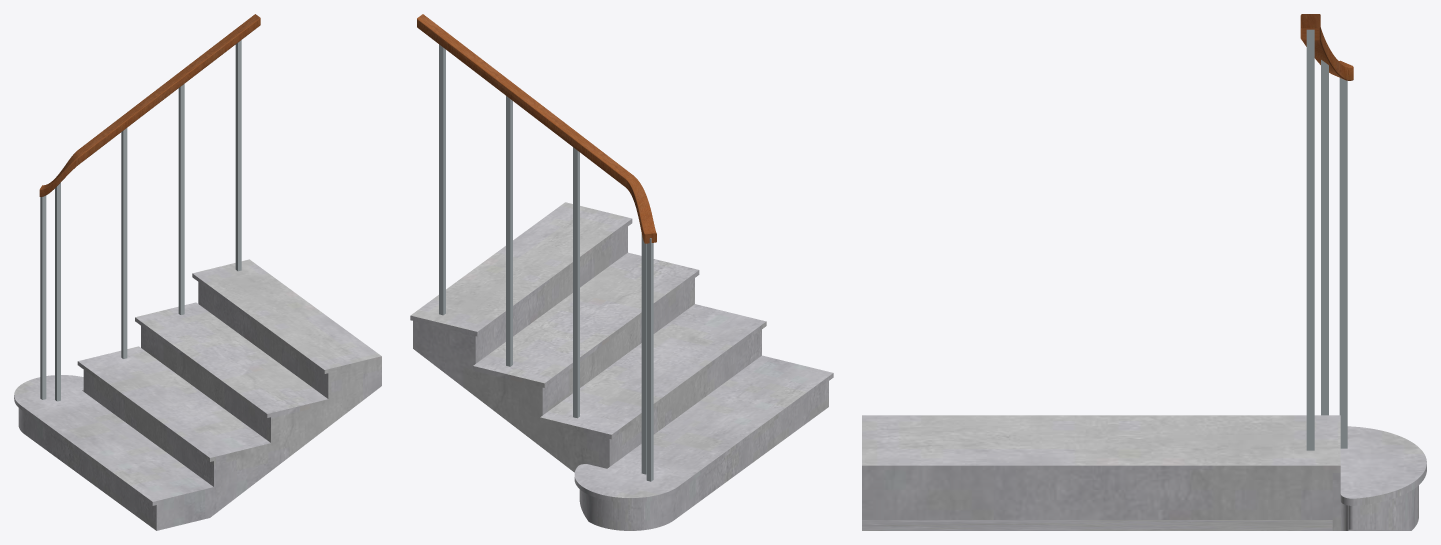
Rendered from stair-start-rounded.glb.
3 renders of one model, left to right at view 1: azimuth 30°, elevation 25°; view 2: azimuth 150°, elevation 25°; view 3: azimuth 270°, elevation 25°, orthographic. The views are drawn at different scales.
Parts seen in each view (by area): view 1: 圆头踏步, 连续回弯扶手; view 2: 圆头踏步, 连续回弯扶手; view 3: 圆头踏步, 连续回弯扶手.
Part boxes in pixels (bbox=[...]): 圆头踏步: bbox=[14, 259, 381, 530]; 连续回弯扶手: bbox=[39, 14, 260, 401]; 圆头踏步: bbox=[410, 202, 833, 530]; 连续回弯扶手: bbox=[417, 14, 656, 481]; 圆头踏步: bbox=[862, 415, 1426, 530]; 连续回弯扶手: bbox=[1300, 14, 1353, 450].
Size of the model in its own units: 1.2 by 1.85 by 1.42.
Materials: 3 (2 with a texture image).
